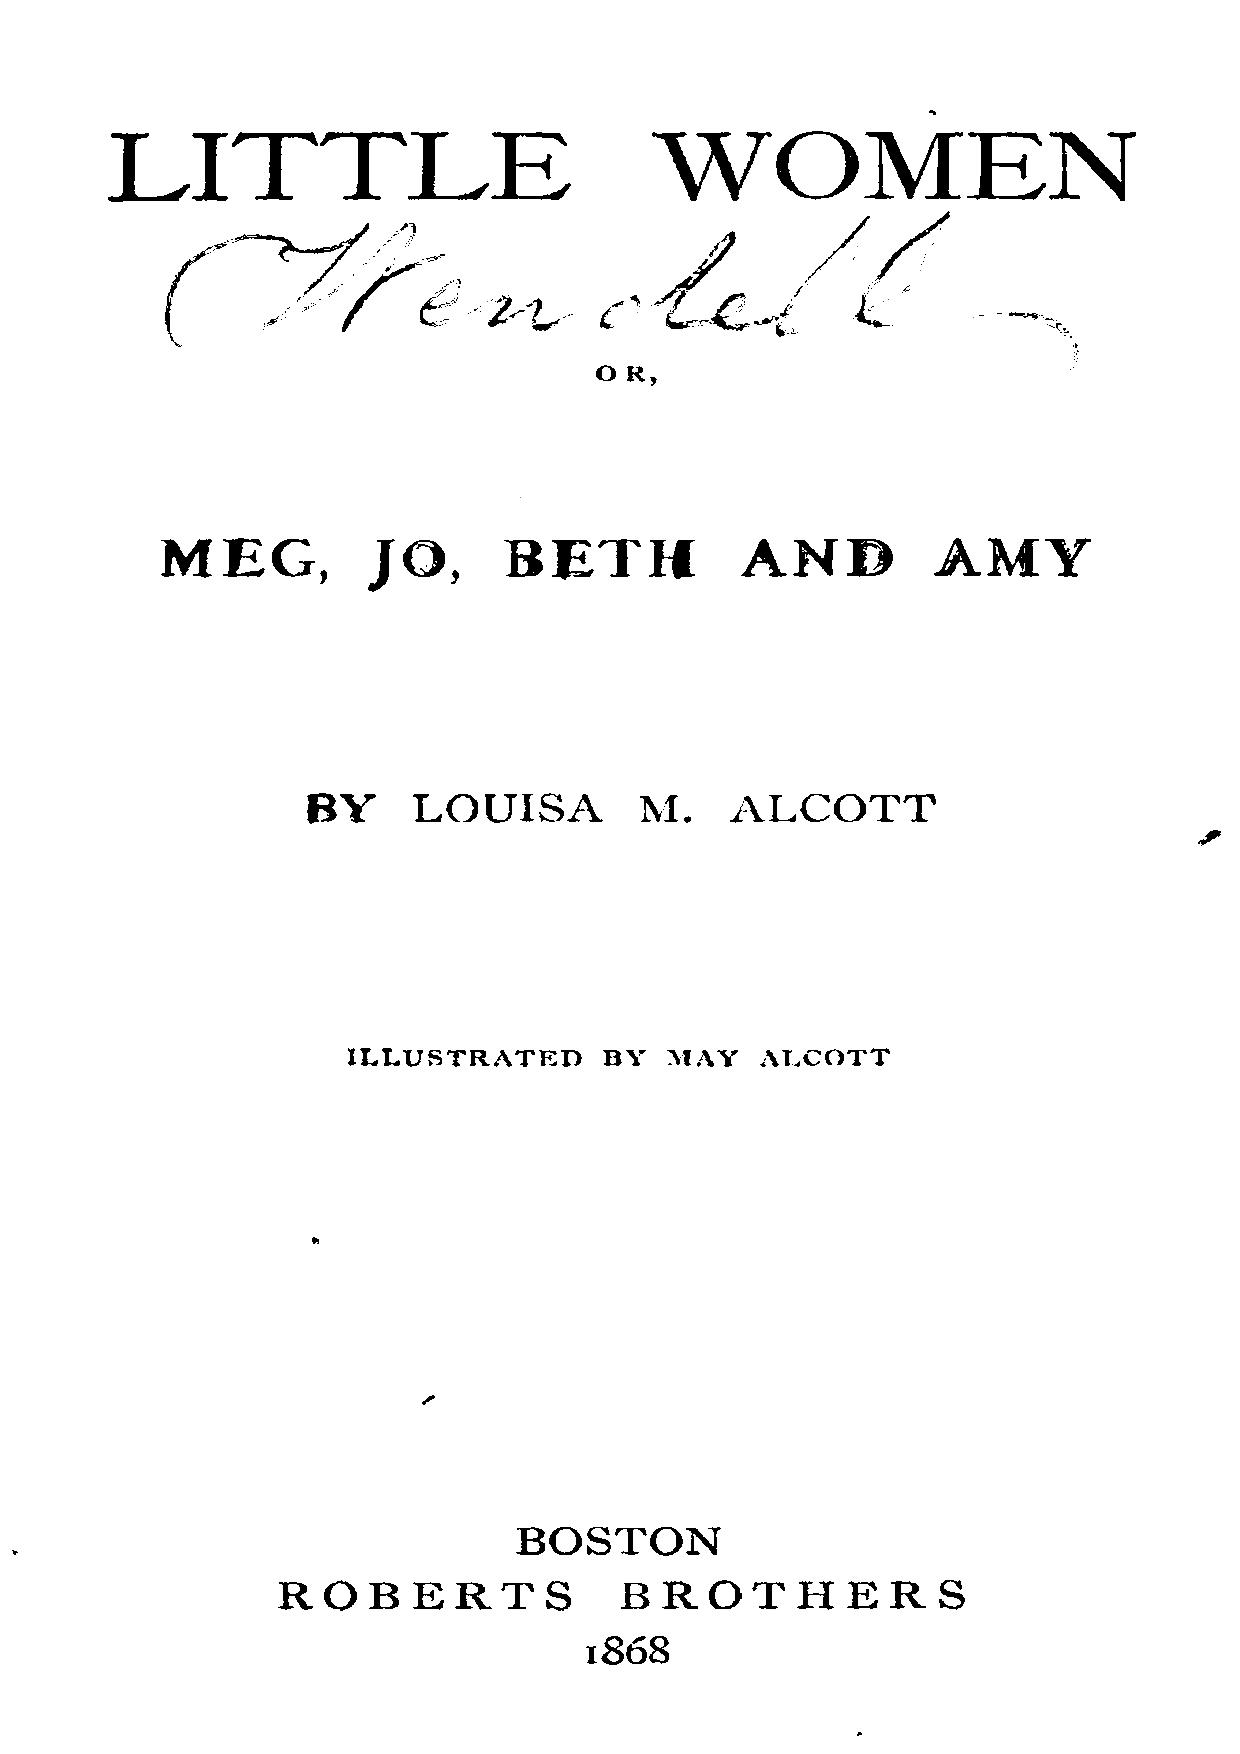author: (298, 789, 939, 829)
title: (102, 126, 1137, 205)
